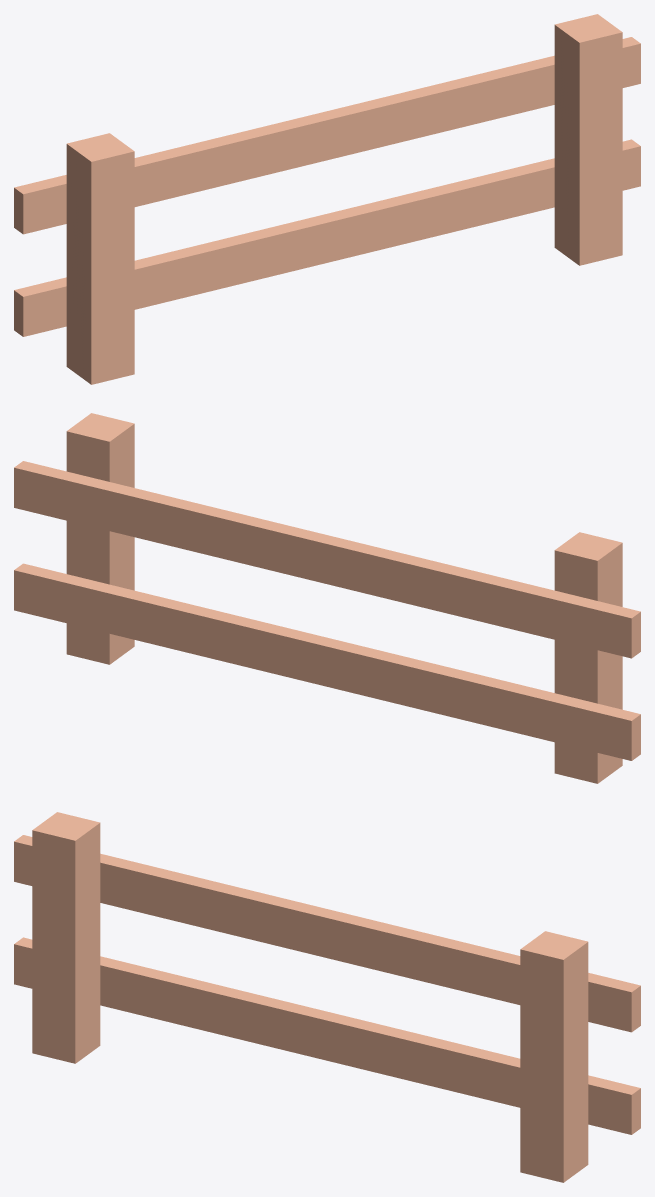
The model's file is fence_planks.glb.
3 views of the same model, one above another, from view 1: azimuth 30°, elevation 25°; view 2: azimuth 150°, elevation 25°; view 3: azimuth 330°, elevation 25° (orthographic).
Visible parts, largest first — view 1: fence_planks; view 2: fence_planks; view 3: fence_planks.
Part boxes in pixels (<box>): fence_planks: <box>14,14,640,384</box>; fence_planks: <box>14,413,640,783</box>; fence_planks: <box>14,812,640,1182</box>.
Bounding box in the file's own units: 1 × 0.345 × 0.096.
